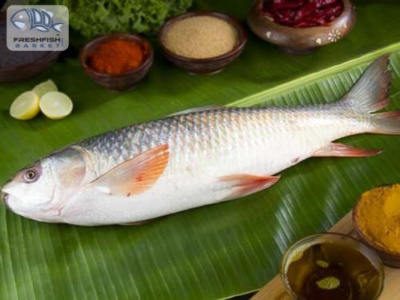rohu: (3, 49, 400, 229)
